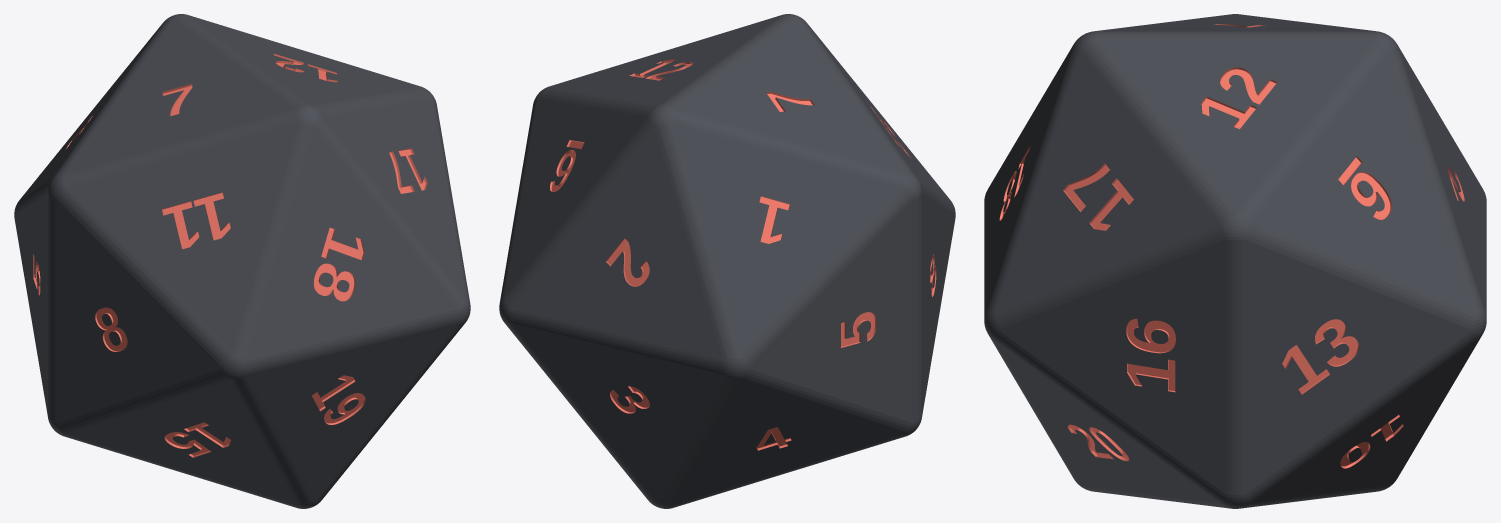
3 views of the same model, side by side, from view 1: azimuth 30°, elevation 25°; view 2: azimuth 150°, elevation 25°; view 3: azimuth 270°, elevation 25° (orthographic). The views are drawn at different scales.
Visible parts, largest first — view 1: d20; view 2: d20; view 3: d20.
Part boxes in pixels (bbox=[...]): d20: bbox=[14, 14, 470, 508]; d20: bbox=[499, 14, 955, 508]; d20: bbox=[984, 14, 1486, 508].
Bounding box in the file's own units: 18.59 × 18.59 × 18.59.
